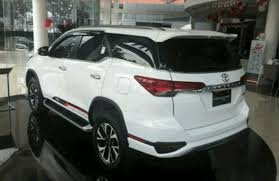mobil: (23, 25, 252, 165)
